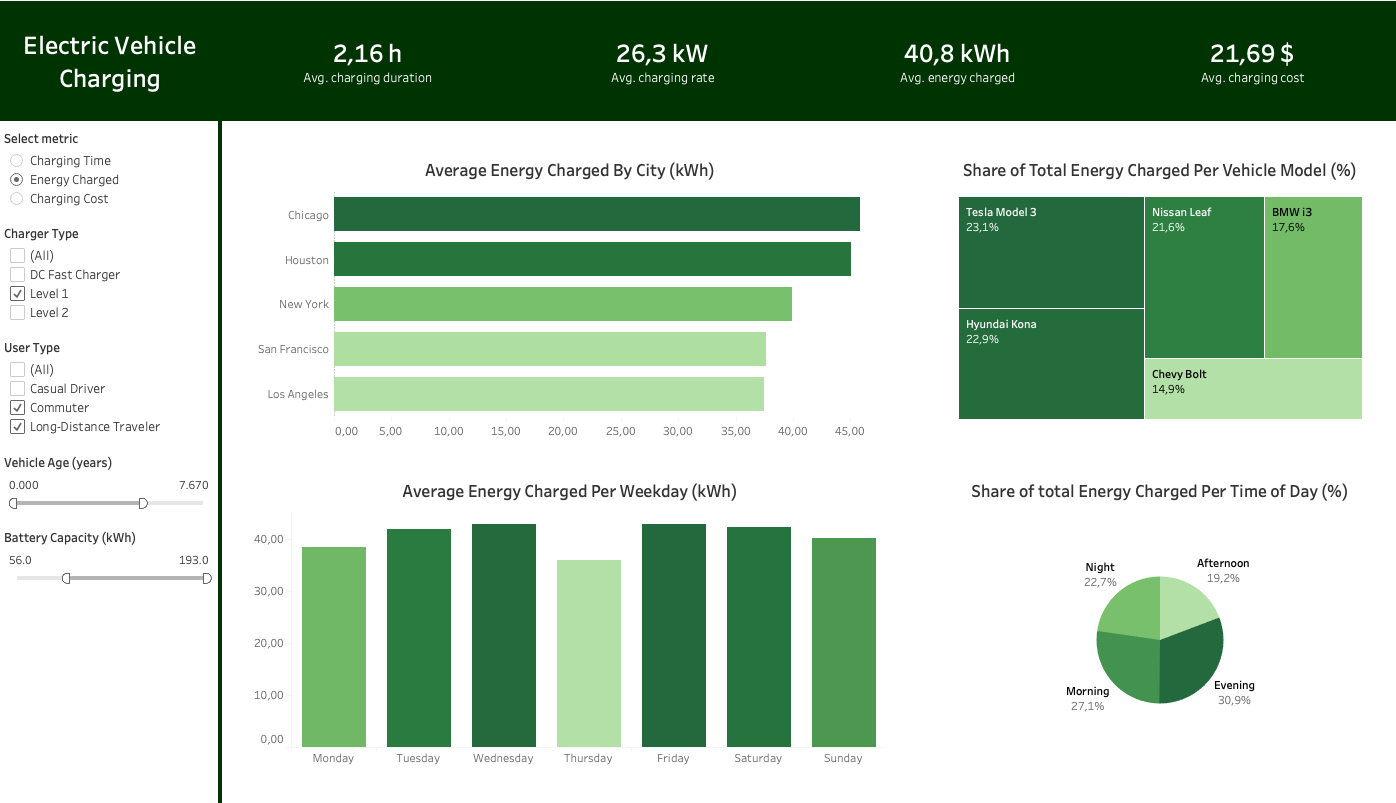

The page's visual inventory and layout, read from the dashboard file:
{"tool":"tableau","page":{"name":"EV Charging Dashboard","canvas":[1400,800],"ordinal":0},"visuals":[{"type":"text","box":[0,0,220,120]},{"type":"worksheet","title":"Avg. Charging duration","mark":"Automatic","box":[220,0,295,120]},{"type":"worksheet","title":"Avg. Charging rate","mark":"Automatic","box":[515,0,295,120]},{"type":"worksheet","title":"Avg. Energy charged","mark":"Automatic","box":[810,0,295,120]},{"type":"worksheet","title":"Avg. Charging cost","mark":"Automatic","box":[1105,0,295,120]},{"type":"parameter","param":"[Parameters].[Parameter 1]","box":[0,125,220,95]},{"type":"worksheet","title":"By city","mark":"Automatic","rows":["Charging Station Location"],"cols":["Calculation_1638606579324022784"],"box":[250,150,640,310]},{"type":"worksheet","title":"Vehicle model","mark":"Automatic","box":[950,150,420,310]},{"type":"filter","title":"By city","param":"[federated.1dpal3w1wo6gg41cfekdp1fyys2p].[none:Charger Type:nk]","box":[0,220,220,114]},{"type":"filter","title":"By city","param":"[federated.1dpal3w1wo6gg41cfekdp1fyys2p].[none:User Type:nk]","box":[0,334,220,115]},{"type":"filter","title":"By city","param":"[federated.1dpal3w1wo6gg41cfekdp1fyys2p].[none:Vehicle Age (years):qk]","box":[0,449,220,75]},{"type":"worksheet","title":"Weekday","mark":"Automatic","rows":["Calculation_1638606579324022784"],"cols":["Day of Week"],"box":[250,460,640,310]},{"type":"worksheet","title":"Time of day","mark":"Pie","box":[950,460,420,310]},{"type":"filter","title":"By city","param":"[federated.1dpal3w1wo6gg41cfekdp1fyys2p].[none:Battery Capacity (kWh):qk]","box":[0,524,220,75]}]}

Visuals, with their boxes in screenshot pixels (x1, y1, x2, y2), scaled from the page's 1400x800 canvas onto the 1396x803 screenshot:
text: select_region(0, 0, 219, 120)
"Avg. Charging duration" worksheet: select_region(219, 0, 514, 120)
"Avg. Charging rate" worksheet: select_region(514, 0, 808, 120)
"Avg. Energy charged" worksheet: select_region(808, 0, 1102, 120)
"Avg. Charging cost" worksheet: select_region(1102, 0, 1395, 120)
parameter: select_region(0, 125, 219, 221)
"By city" worksheet: select_region(249, 151, 887, 462)
"Vehicle model" worksheet: select_region(947, 151, 1366, 462)
"By city" filter: select_region(0, 221, 219, 335)
"By city" filter: select_region(0, 335, 219, 451)
"By city" filter: select_region(0, 451, 219, 526)
"Weekday" worksheet: select_region(249, 462, 887, 773)
"Time of day" worksheet (Pie marks): select_region(947, 462, 1366, 773)
"By city" filter: select_region(0, 526, 219, 601)
